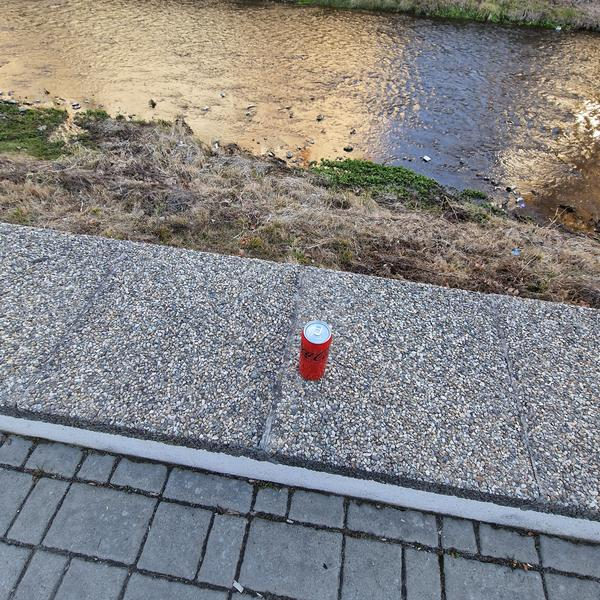can: (295, 318, 334, 384)
